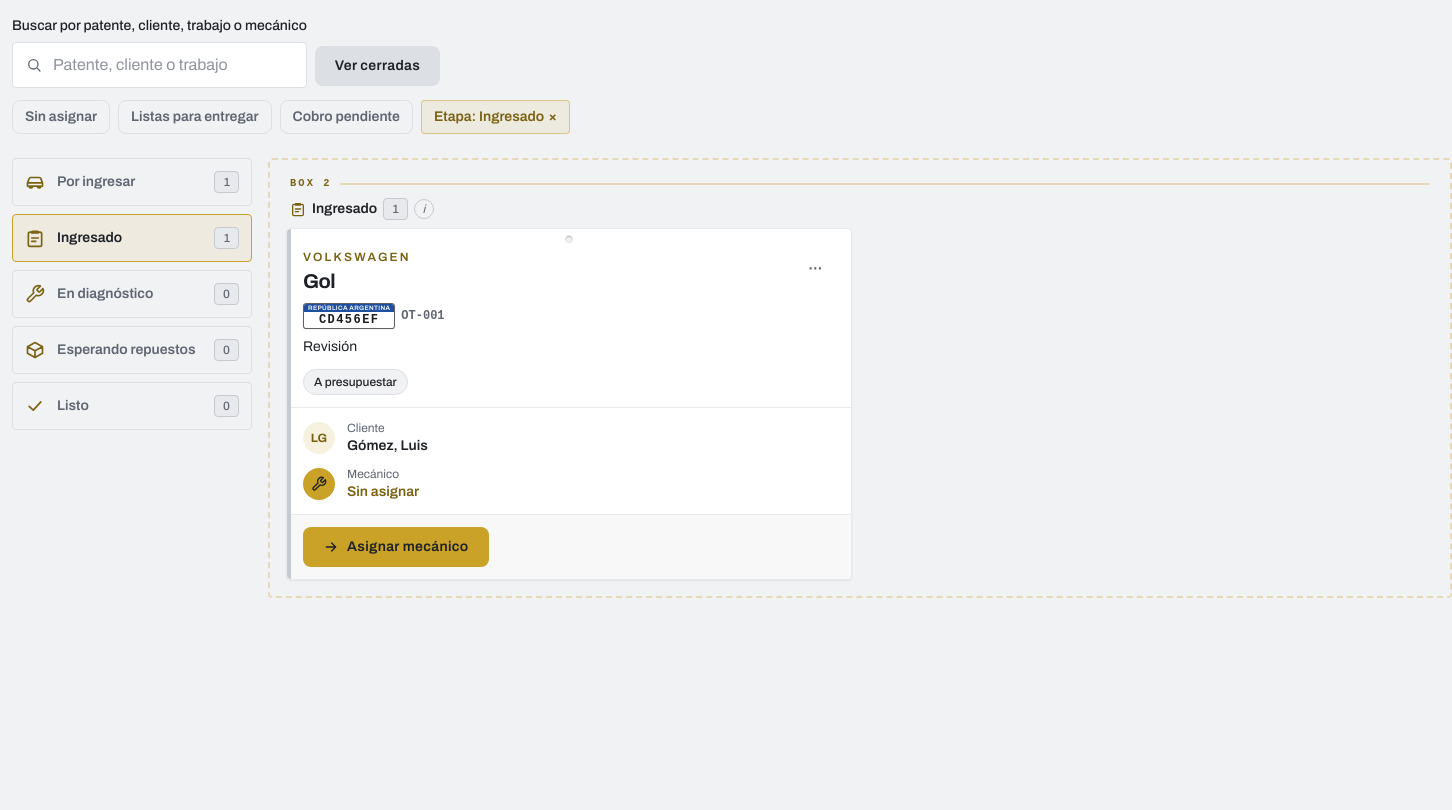
Test case: TableroOrdenes › ?estado= filtra a una sola etapa y el chip permite volver
Expected: the element "Ingresado" is shown, [268,158,1451,598]
Expected: the text "Service" is not shown
Click the button named "Quitar filtro de etapa" at (553, 117), box [548,107,557,127]
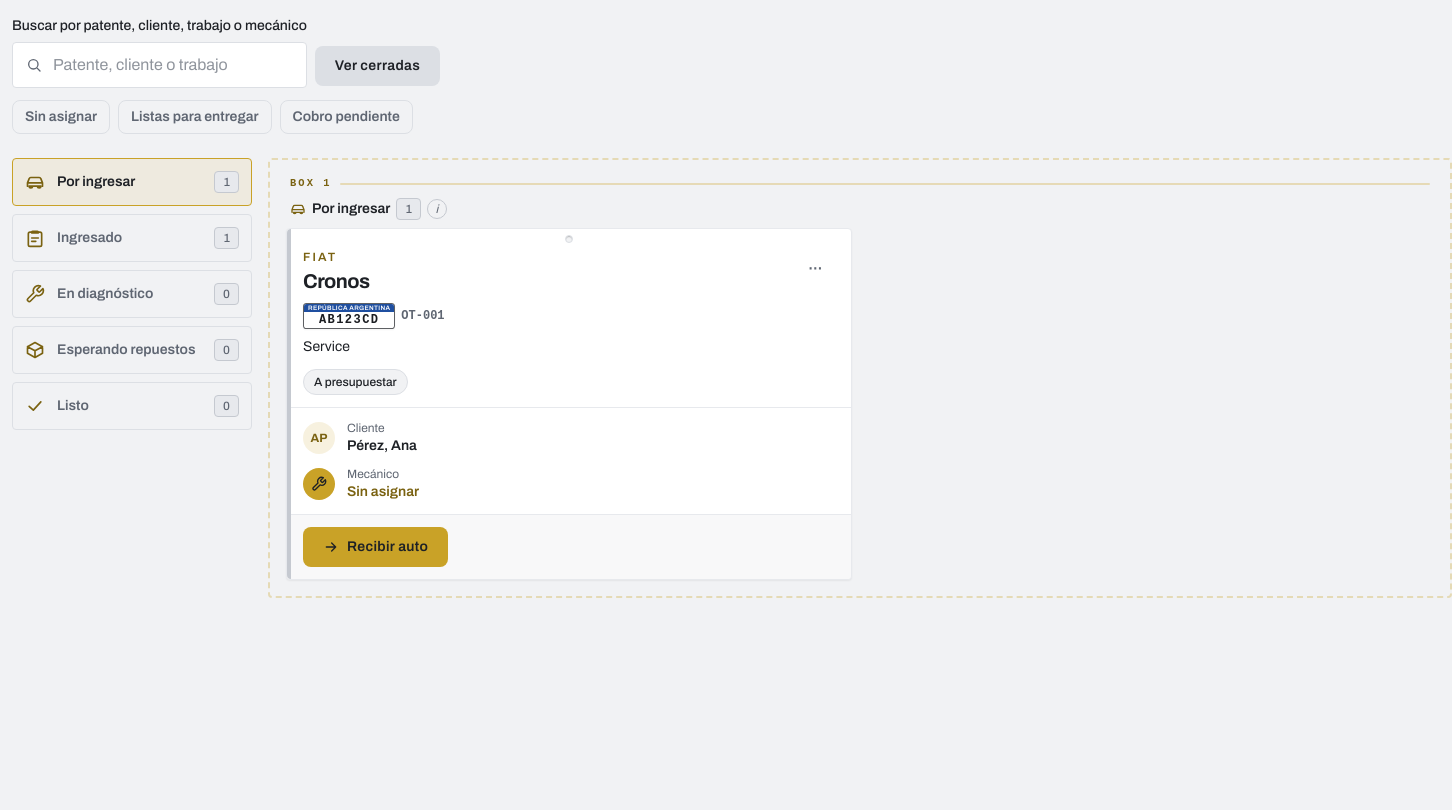
Result: the element "Por ingresar" is shown at [268,158,1451,598]
Result: the text "Service" is shown at [303,339,350,354]
